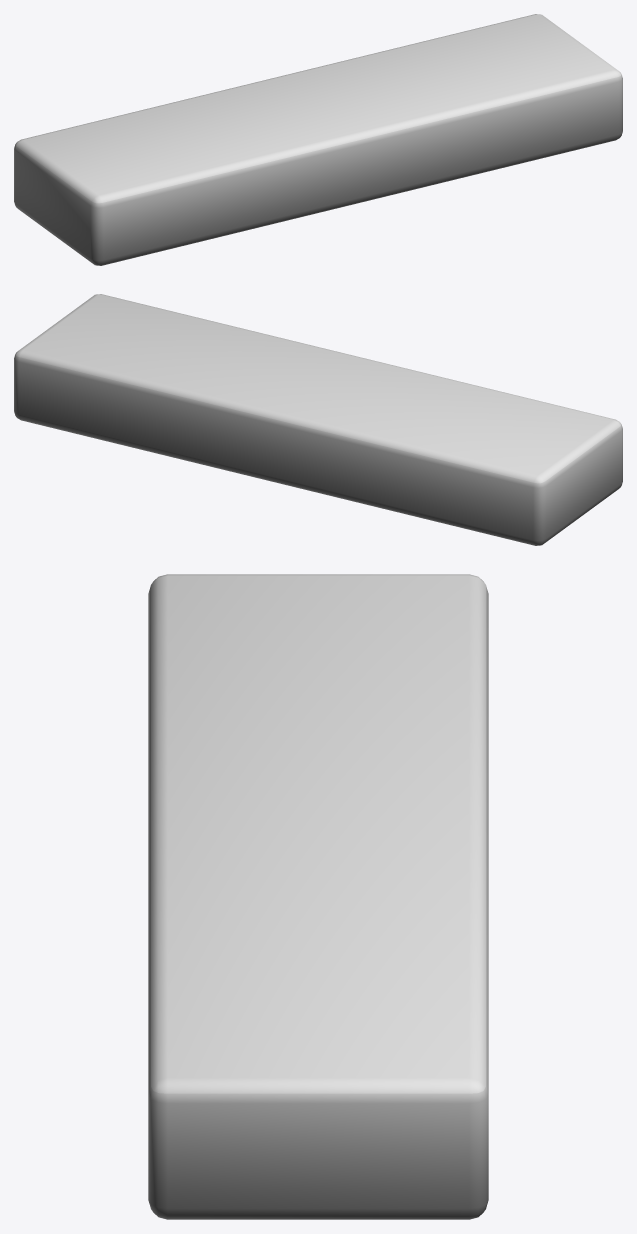
Rendered from placeholder panel.fbx.
3 renders of one model, top to bottom at view 1: azimuth 30°, elevation 25°; view 2: azimuth 150°, elevation 25°; view 3: azimuth 270°, elevation 25°, orthographic. The views are drawn at different scales.
Visible parts, largest first — view 1: placeholder panel; view 2: placeholder panel; view 3: placeholder panel.
Part boxes in pixels (x1,y1,x2,y2): placeholder panel: [14, 14, 622, 265]; placeholder panel: [14, 294, 622, 545]; placeholder panel: [148, 574, 488, 1219].
Bounding box in the file's own units: 15.87 × 2 × 4.4.
